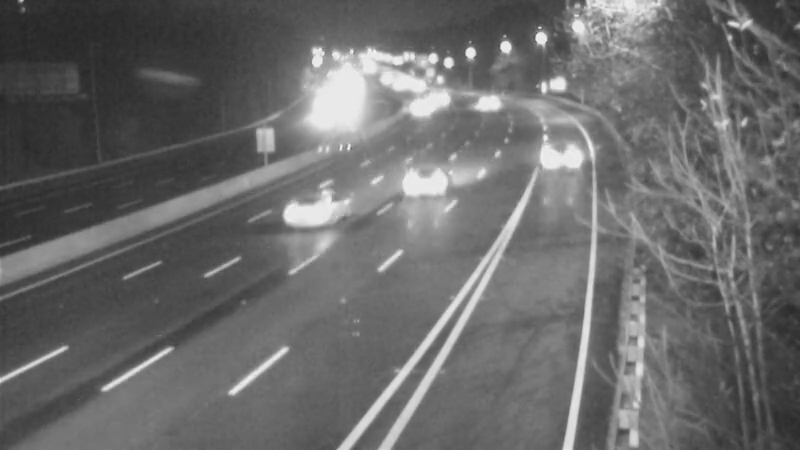vehicle: (518, 117, 598, 197), (384, 142, 464, 222), (261, 173, 341, 253), (413, 71, 463, 121), (453, 72, 503, 122), (390, 81, 440, 131)
